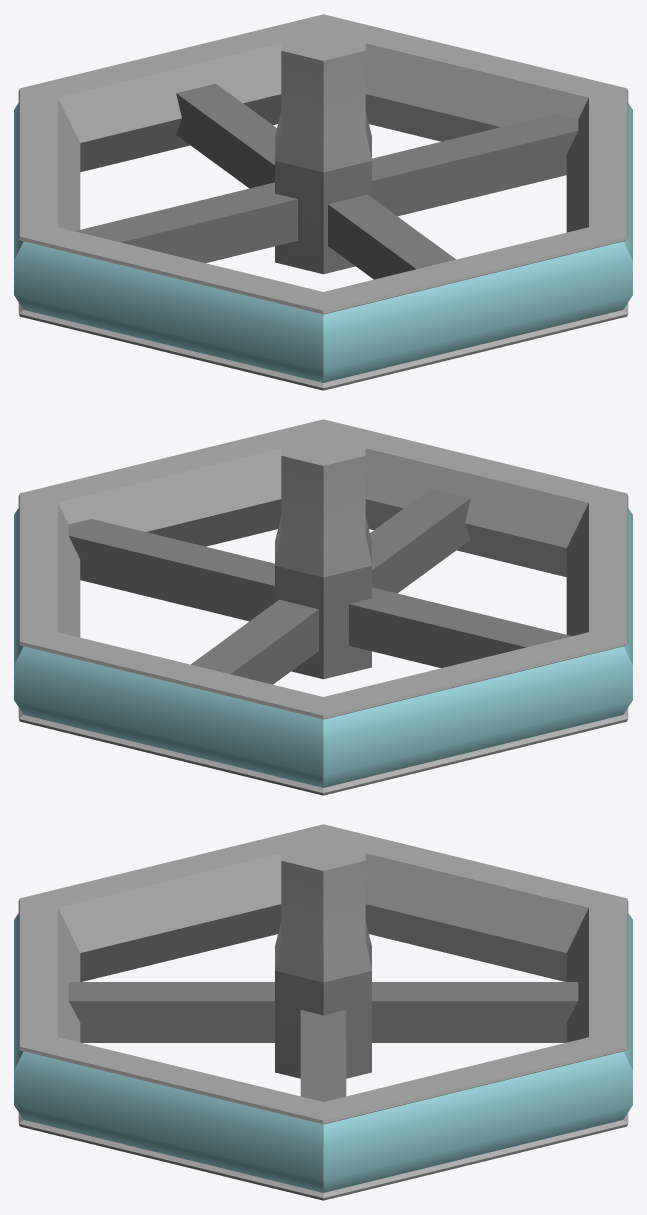
The model's file is room light.fbx.
3 renders of one model, top to bottom at view 1: azimuth 30°, elevation 25°; view 2: azimuth 150°, elevation 25°; view 3: azimuth 270°, elevation 25°, orthographic.
Visible parts, largest first — view 1: pCube26; view 2: pCube26; view 3: pCube26.
Part boxes in pixels (x1,y1,x2,y2): pCube26: [14, 14, 632, 390]; pCube26: [14, 419, 632, 795]; pCube26: [14, 824, 632, 1200].
Size of the model in its own units: 7.01 by 2.28 by 6.07.
